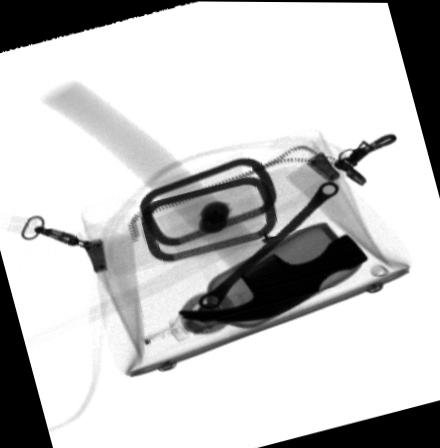Hammer: (37, 76, 371, 323)
Wrench: (194, 178, 341, 311)
